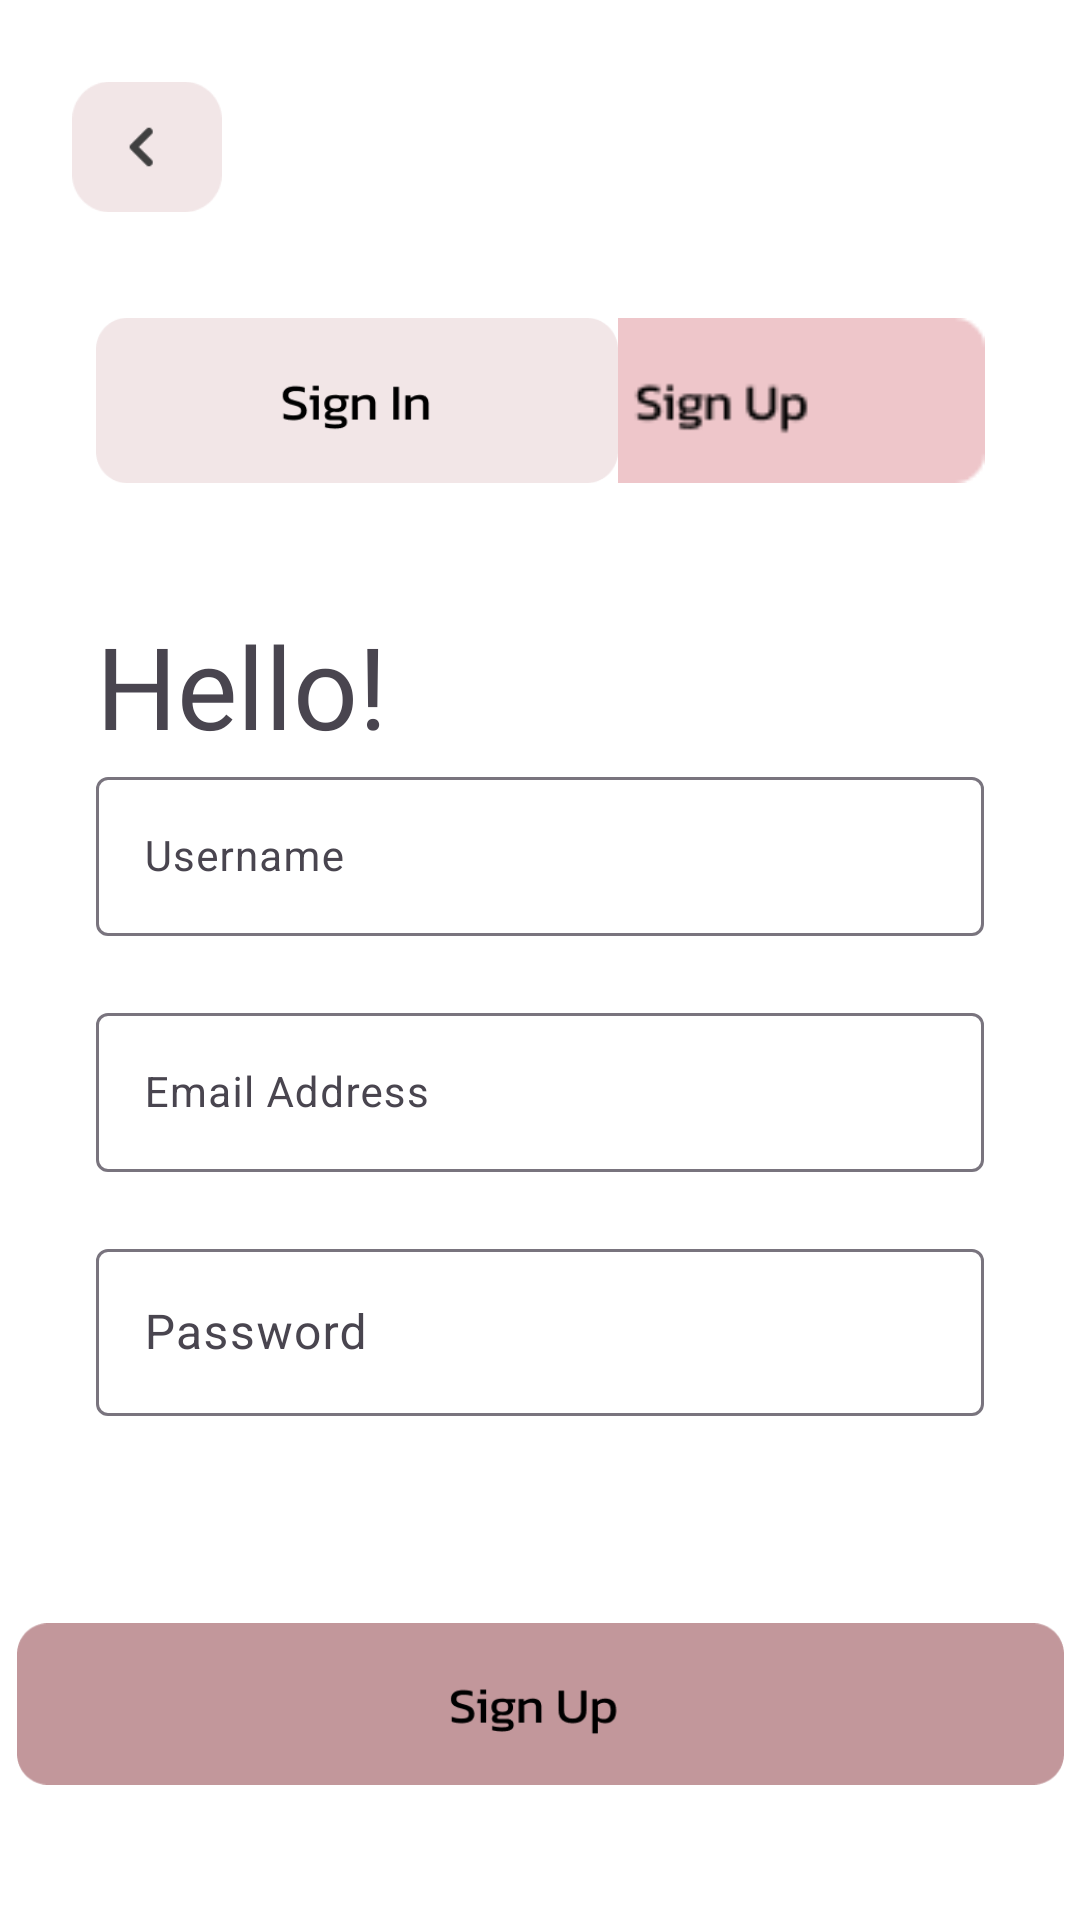

Screen size 1080w x 1920h. Icon name, then its box in pixels as (x1, y1, x2, y2):
back: (72, 82, 222, 212)
